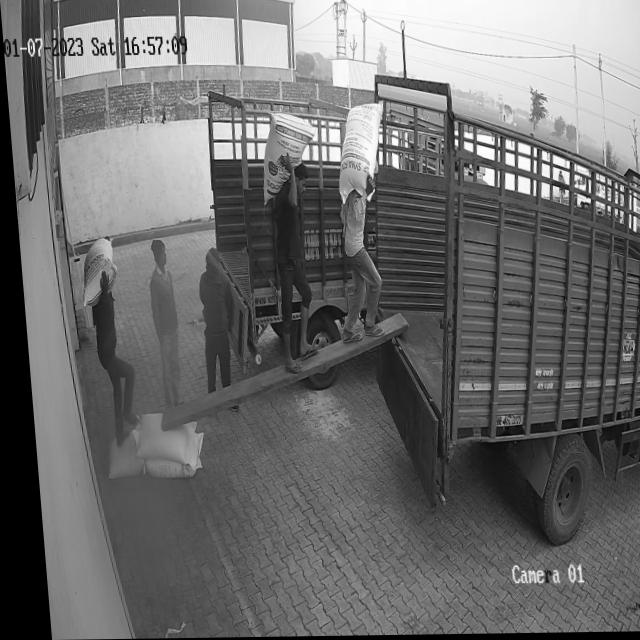sack: (255, 110, 318, 205), (329, 102, 388, 203), (125, 413, 192, 466), (133, 433, 198, 478), (73, 238, 115, 306), (96, 429, 137, 480)
